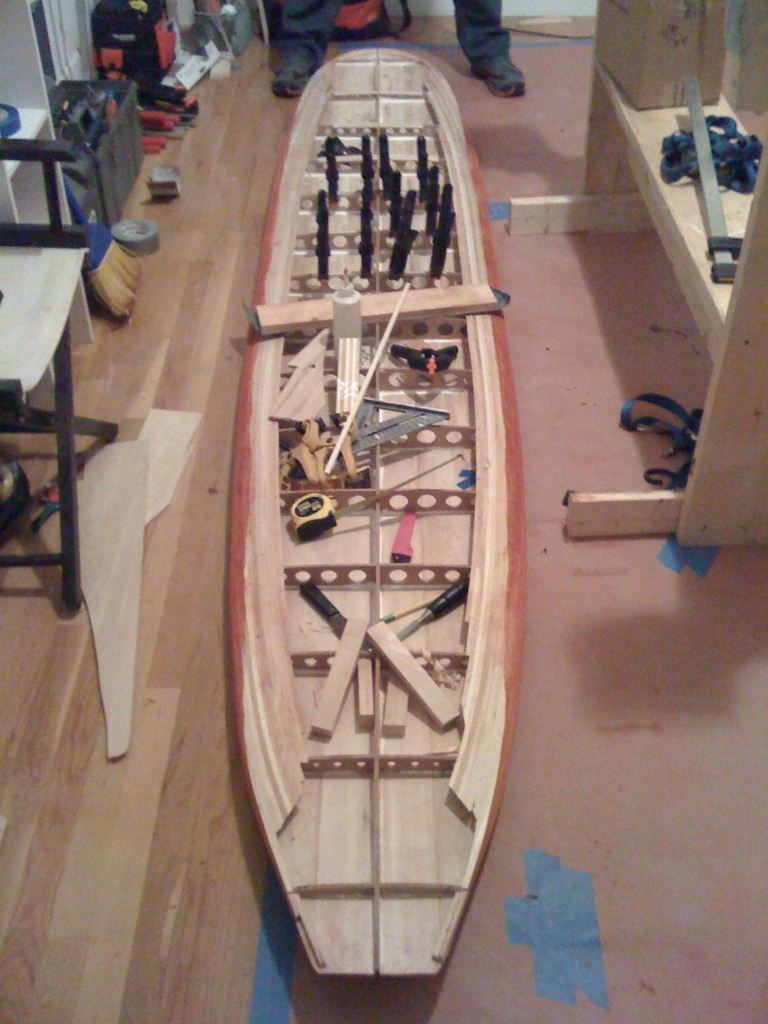person: (265, 0, 526, 106)
